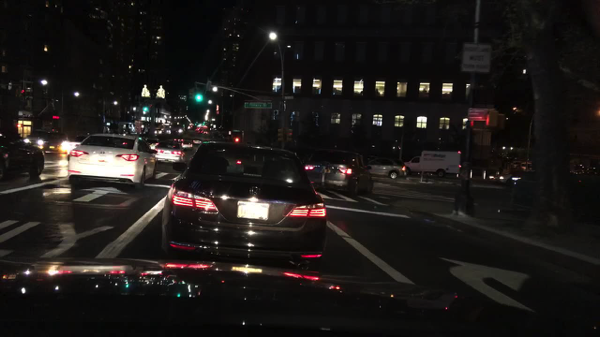car: (163, 141, 328, 273), (68, 133, 157, 189), (304, 149, 374, 196), (0, 132, 44, 177), (155, 140, 194, 166), (367, 157, 406, 181), (60, 136, 88, 154), (501, 171, 532, 186), (23, 134, 50, 151), (487, 173, 513, 185), (394, 161, 411, 179), (166, 125, 184, 137), (519, 161, 533, 173), (581, 168, 592, 176), (573, 169, 584, 176), (154, 128, 162, 137), (513, 160, 519, 171), (508, 158, 516, 165), (284, 96, 295, 101), (198, 130, 204, 135), (202, 130, 207, 134)
traffic light: (486, 111, 499, 129), (276, 127, 284, 144), (470, 120, 484, 129), (197, 86, 202, 102), (188, 89, 194, 102), (141, 102, 148, 113), (287, 130, 292, 144), (234, 137, 239, 144), (21, 89, 26, 96), (327, 118, 328, 122)
traffic sign: (462, 43, 491, 73), (468, 109, 486, 120), (242, 103, 273, 108)
truck: (408, 150, 459, 178)
